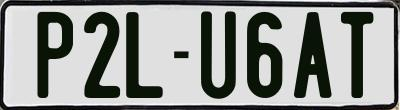2: (81, 11, 121, 98)
6: (247, 9, 286, 96)
A: (292, 9, 331, 100)
L: (123, 12, 166, 104)
P: (34, 11, 73, 100)
T: (339, 12, 376, 103)
U: (198, 9, 235, 102)
